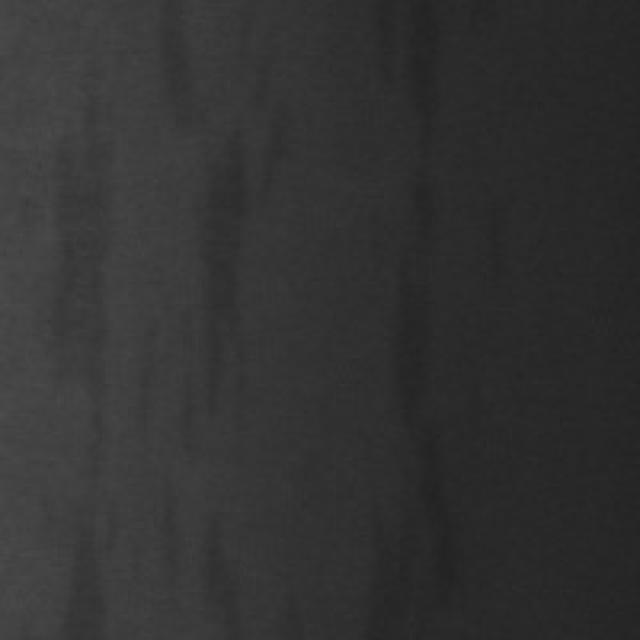inclusion: (362, 3, 474, 611), (150, 13, 269, 451), (35, 64, 125, 614)
